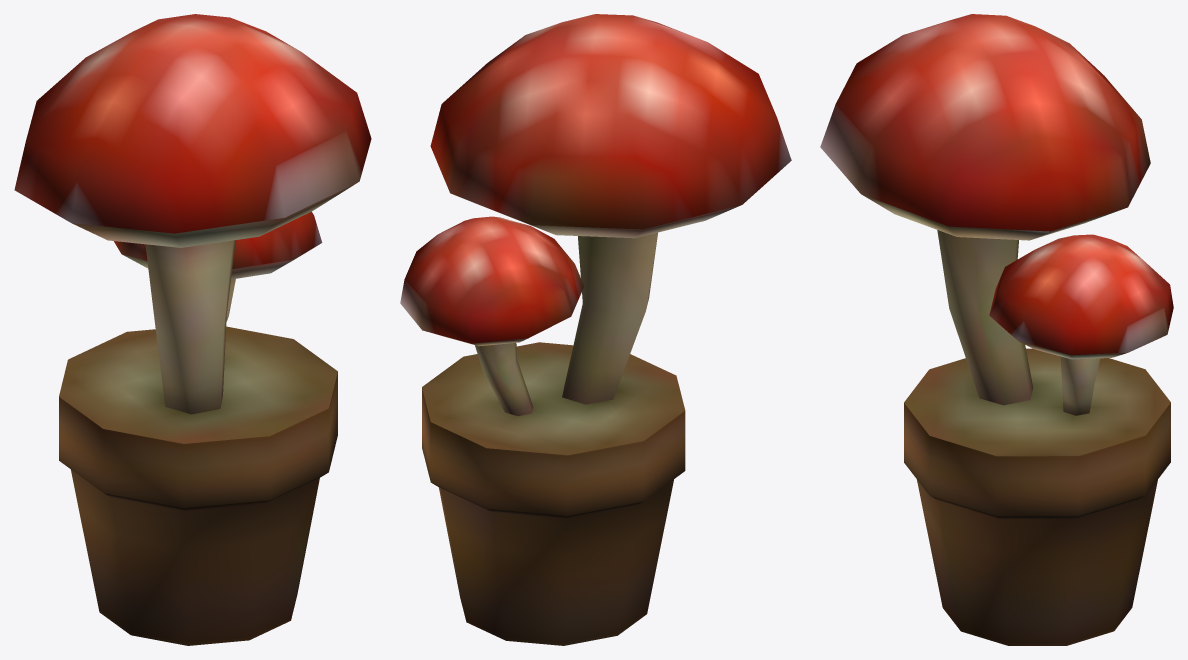
Rendered from BugRoomRedMushroomPot.glb.
3 views of the same model, side by side, from view 1: azimuth 30°, elevation 25°; view 2: azimuth 150°, elevation 25°; view 3: azimuth 270°, elevation 25° (orthographic). The views are drawn at different scales.
Visible parts, largest first — view 1: RedMushroomPot, BigCap, ShroomStemBig, LittleCap; view 2: RedMushroomPot, BigCap, LittleCap, ShroomStemBig, ShroomStemLittle; view 3: RedMushroomPot, BigCap, LittleCap, ShroomStemBig, ShroomStemLittle.
Part boxes in pixels (box(x1,y1,x2,y2)): RedMushroomPot: box(59, 326, 337, 645); BigCap: box(14, 14, 371, 247); ShroomStemBig: box(145, 240, 235, 414); LittleCap: box(114, 211, 322, 279); RedMushroomPot: box(422, 342, 685, 645); BigCap: box(430, 14, 791, 238); LittleCap: box(400, 216, 584, 346); ShroomStemBig: box(562, 232, 657, 404); ShroomStemLittle: box(475, 343, 533, 415); RedMushroomPot: box(904, 348, 1170, 645); BigCap: box(820, 14, 1150, 240); LittleCap: box(989, 234, 1173, 359); ShroomStemBig: box(937, 230, 1033, 405); ShroomStemLittle: box(1060, 356, 1100, 415).
Size of the model in its own units: 2.68 by 4.75 by 2.71.
Materials: 1 (1 with a texture image).
